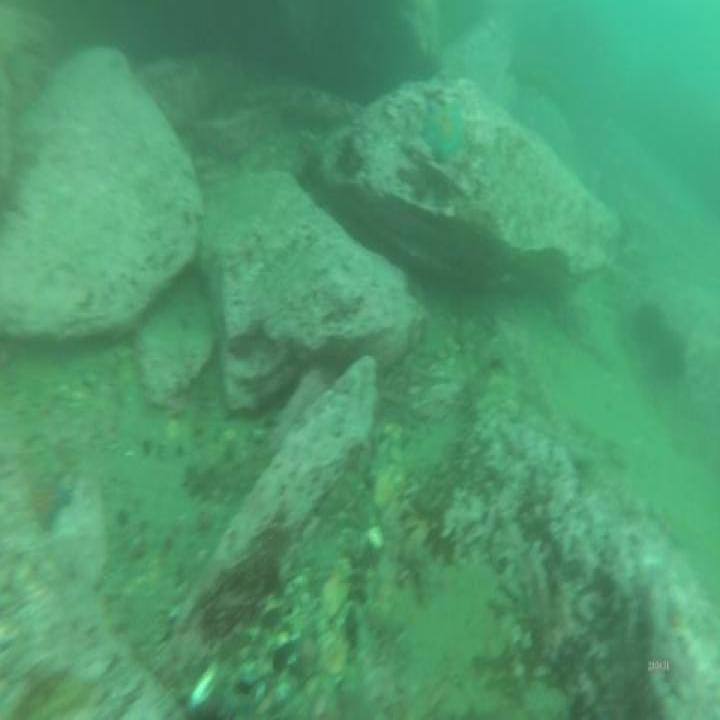echinus: (655, 331, 682, 377), (635, 304, 659, 347)
starfish: (424, 105, 464, 160), (32, 474, 70, 530)
